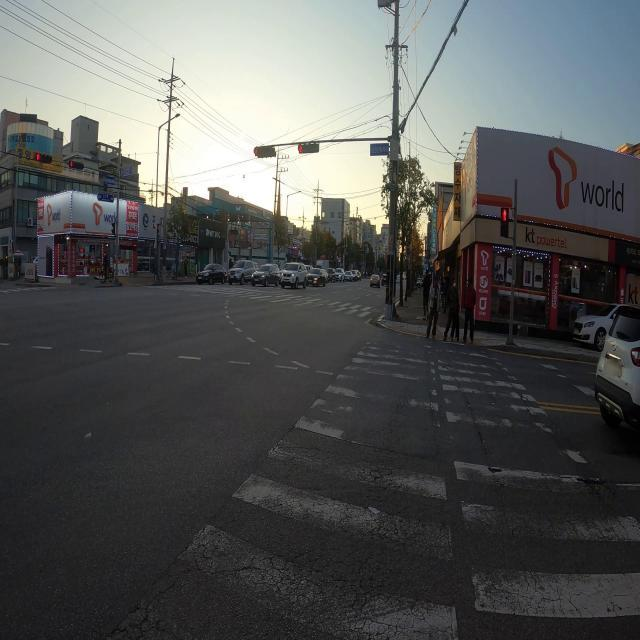crosswalk: (106, 330, 640, 640), (143, 282, 383, 321)
